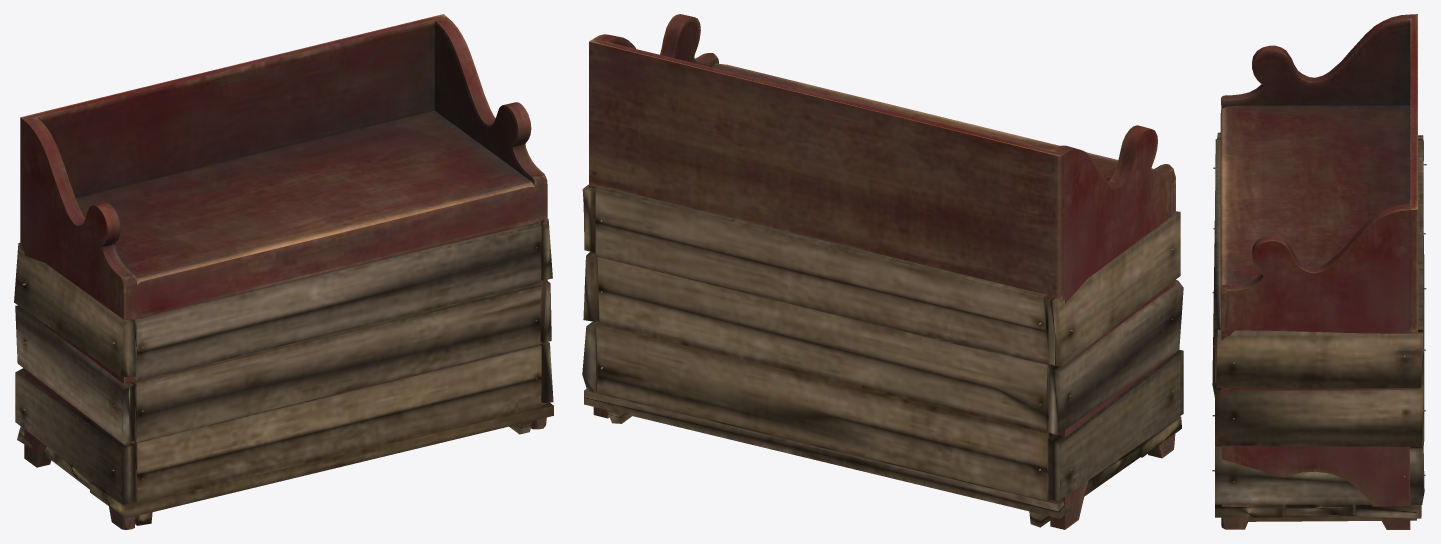
Rendered from public-props.glb.
3 views of the same model, side by side, from view 1: azimuth 30°, elevation 25°; view 2: azimuth 150°, elevation 25°; view 3: azimuth 270°, elevation 25° (orthographic). The views are drawn at different scales.
Visible parts, largest first — view 1: bench, planter; view 2: planter, bench; view 3: bench, planter.
Part boxes in pixels (x1,y1,x2,y2): bench: (20, 14, 547, 529); planter: (14, 218, 553, 525); planter: (582, 184, 1183, 527); bench: (589, 14, 1175, 529); bench: (1220, 14, 1417, 529); planter: (1212, 132, 1426, 521).
Size of the model in its own units: 1.73 by 1.29 by 0.7814.
Materials: 1 (1 with a texture image).
